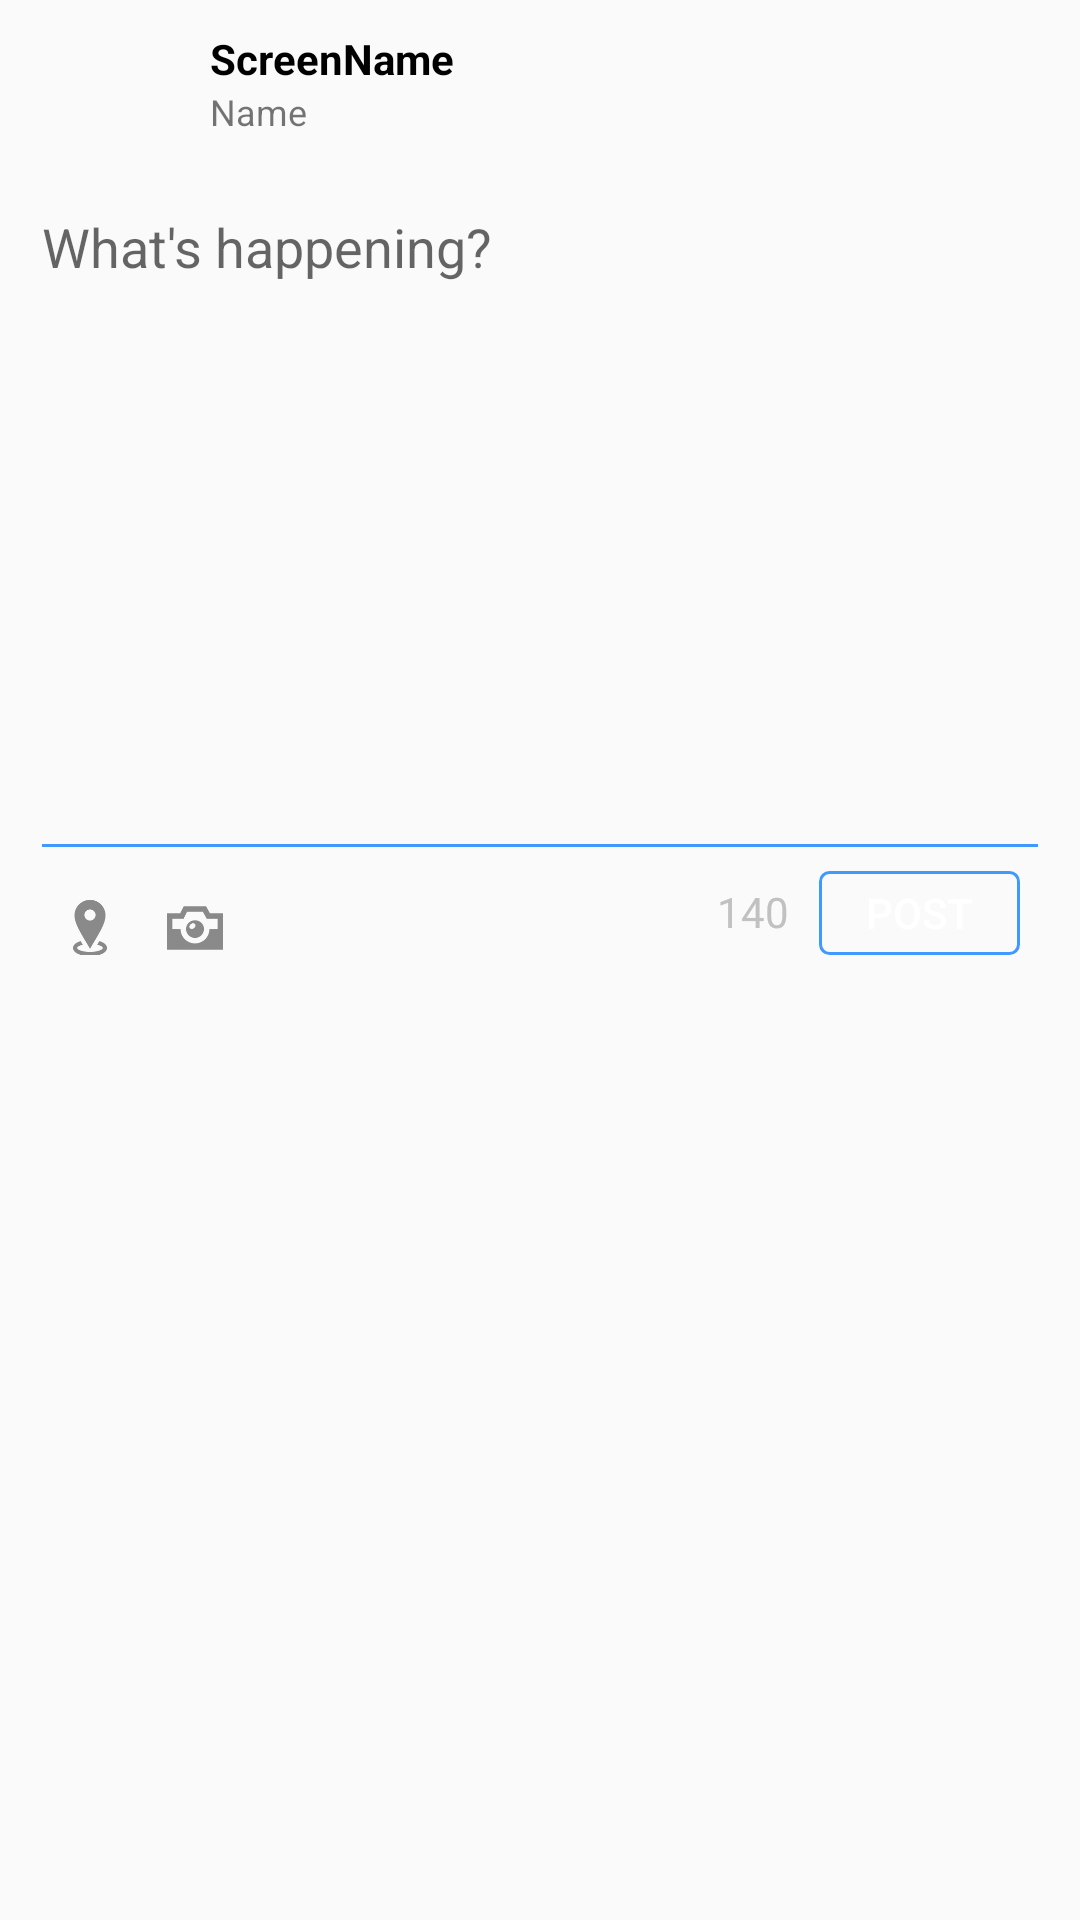

Icon bounding boxes for this 1080px×1920px phone screenshot, format (x1, y1, x2, y2):
camera: (167, 906, 223, 950)
location: (73, 900, 107, 955)
